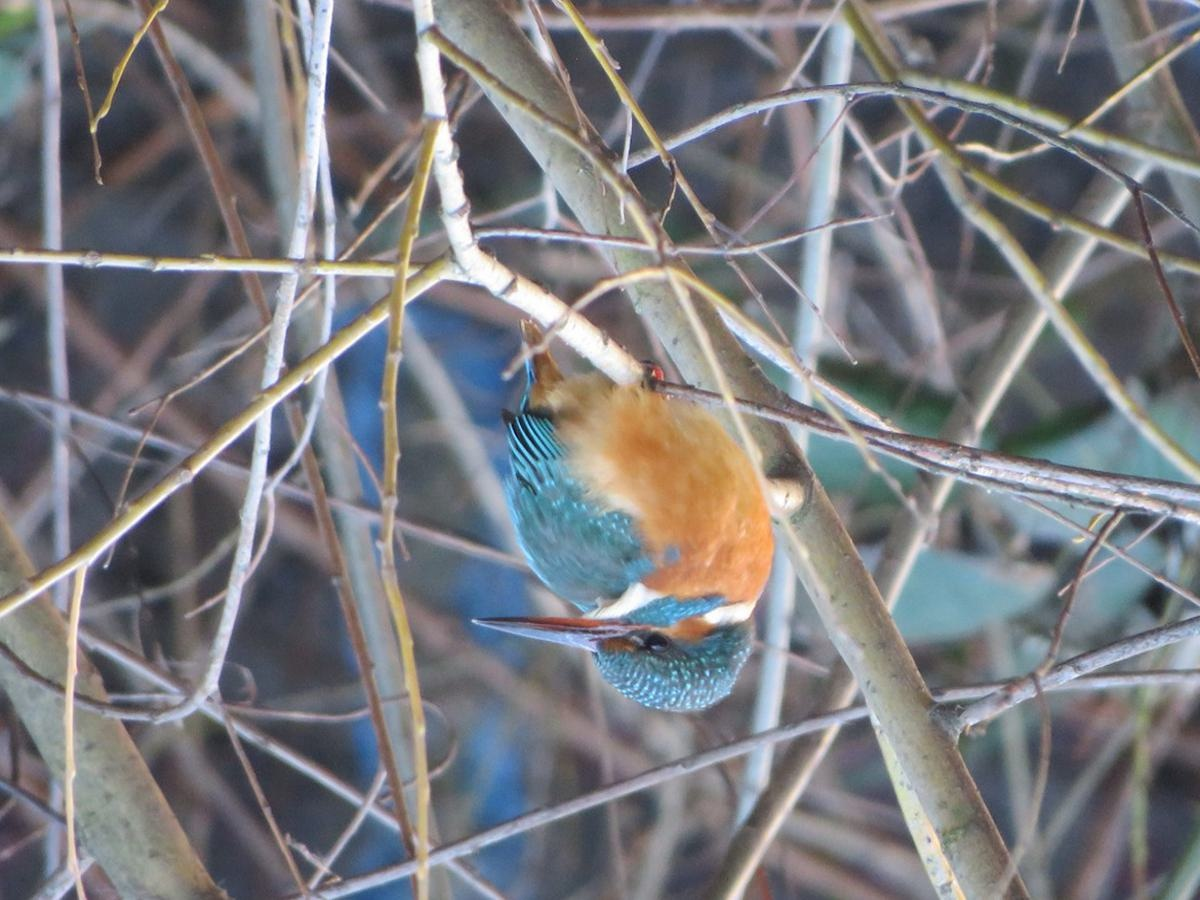kingfisher: (485, 315, 797, 712)
